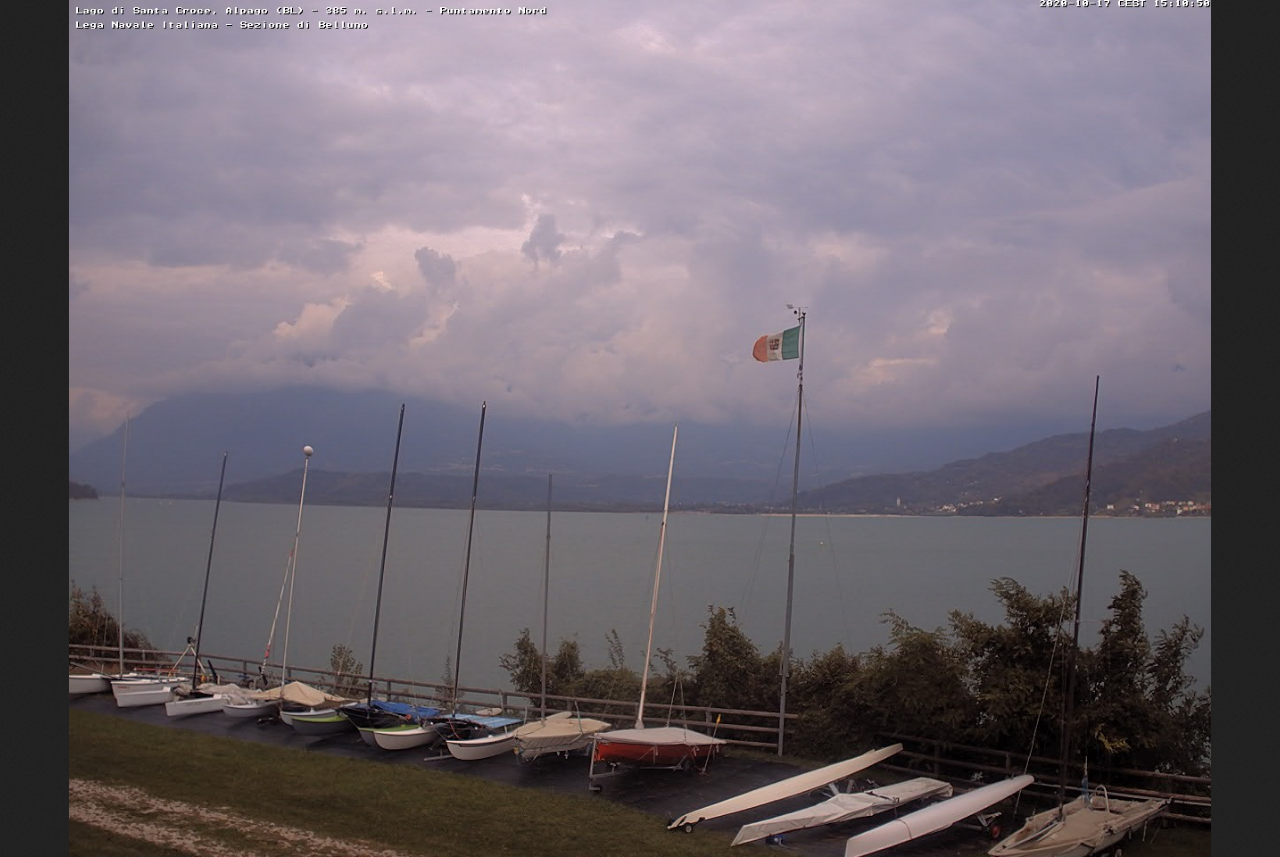yes: (743, 320, 811, 368)
